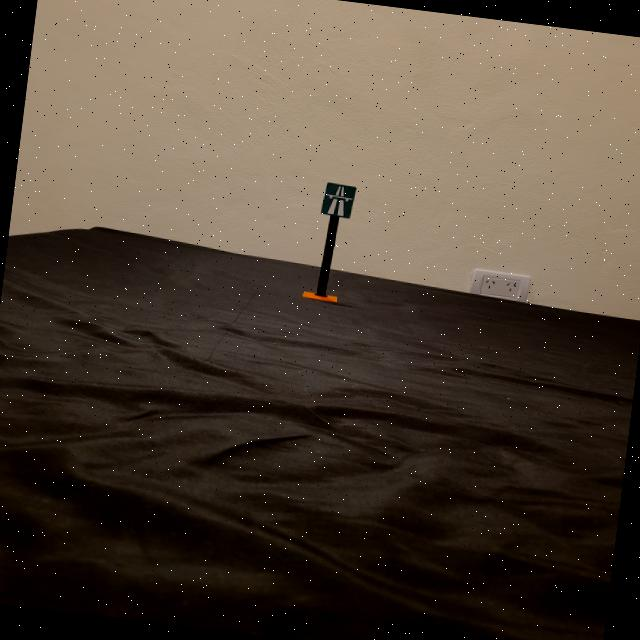highway_entrance: (321, 182, 356, 220)
